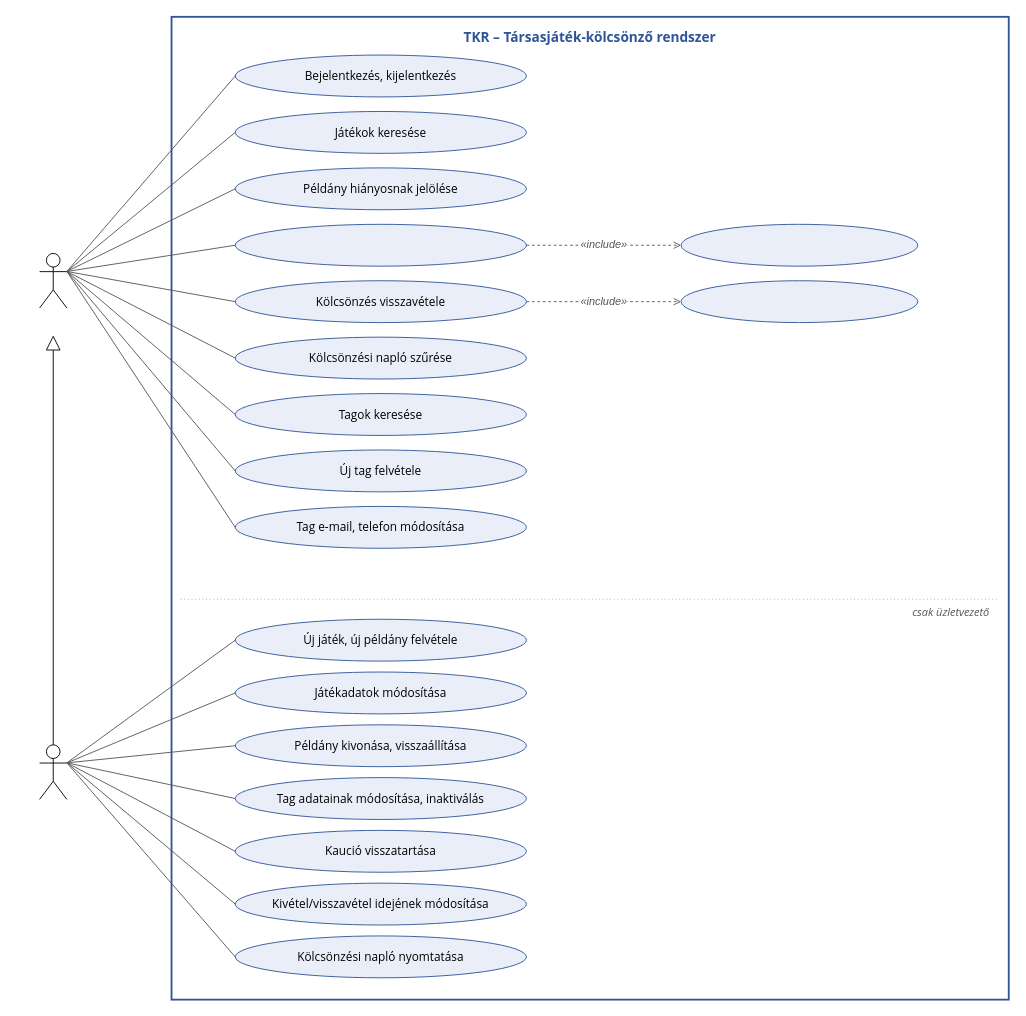
The diagram is 1026 pixels wide and 1016 high, and some of its shapes have lost their labels. Here are the shapes that lost their labels. From the top down, the box of each, then its label:
(234, 223, 526, 266): Kölcsönzés kiadása
(680, 223, 918, 266): Díj és kaució számítása
(39, 253, 67, 308): Pultos
(680, 280, 918, 323): Késedelmi díj számítása
(39, 744, 67, 799): Üzletvezető
